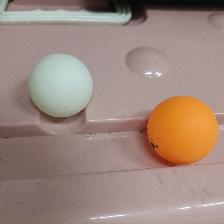WhiteBall: (27, 52, 93, 117)
YellowBall: (146, 95, 217, 164)
